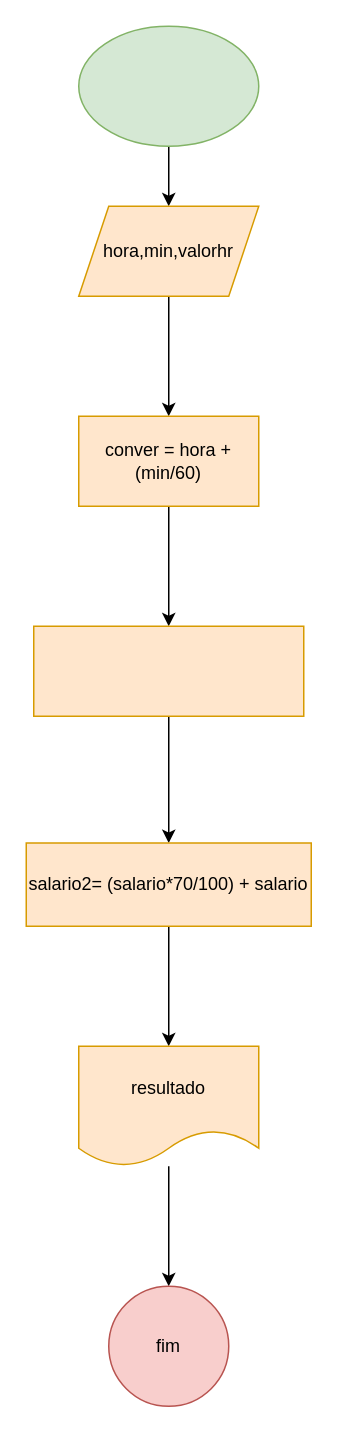
The diagram is 338 pixels wide and 1433 high, and some of its shapes have lost their labels. Each missing label, with the centre of its shape:
inicio: point (168, 85)
salario1 = (conver+valorhora): point (168, 670)
